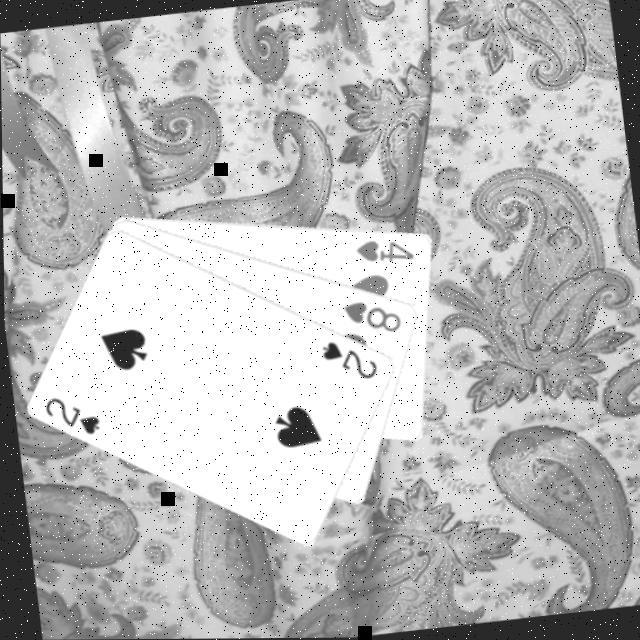2S: (314, 331, 380, 385), (36, 386, 102, 440)
4H: (349, 231, 414, 267)
8H: (336, 292, 403, 338)
